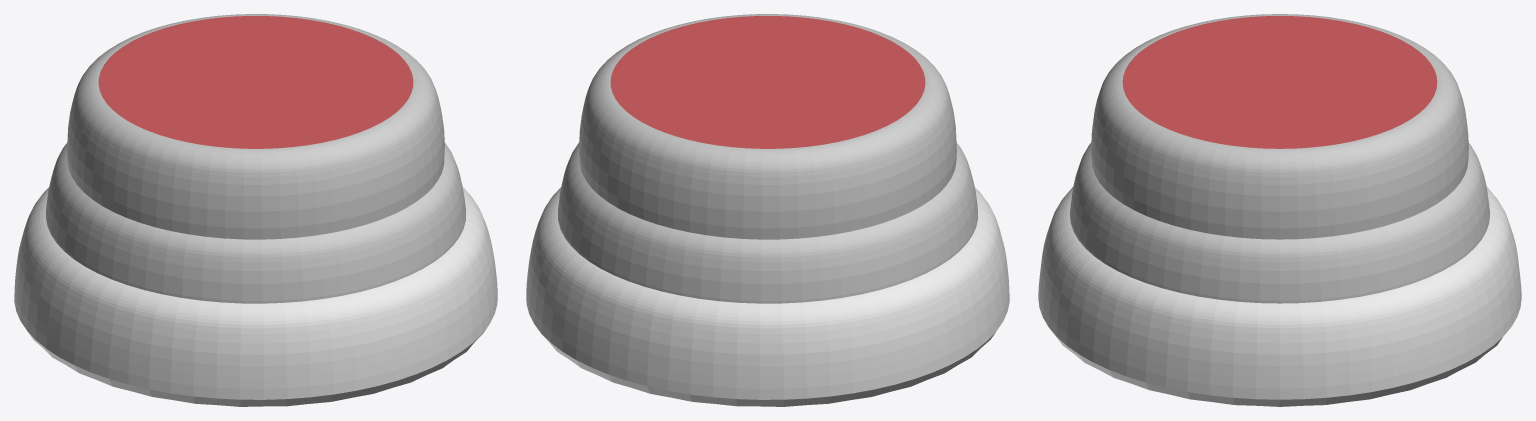
File: HashiNodeTest23.fbx
3 renders of one model, left to right at view 1: azimuth 30°, elevation 25°; view 2: azimuth 150°, elevation 25°; view 3: azimuth 270°, elevation 25°, orthographic.
Parts seen in each view (by area): view 1: Sphere.002, Sphere.001, Sphere; view 2: Sphere.002, Sphere.001, Sphere; view 3: Sphere.002, Sphere.001, Sphere.
Part boxes in pixels (bbox=[...]): Sphere.002: bbox=[67, 14, 444, 239]; Sphere.001: bbox=[14, 187, 497, 406]; Sphere: bbox=[46, 142, 465, 303]; Sphere.002: bbox=[579, 14, 956, 239]; Sphere.001: bbox=[526, 187, 1009, 406]; Sphere: bbox=[558, 142, 977, 303]; Sphere.002: bbox=[1091, 14, 1468, 239]; Sphere.001: bbox=[1038, 187, 1521, 406]; Sphere: bbox=[1070, 143, 1489, 303].
Bounding box in the file's own units: 226 × 226 × 122.
